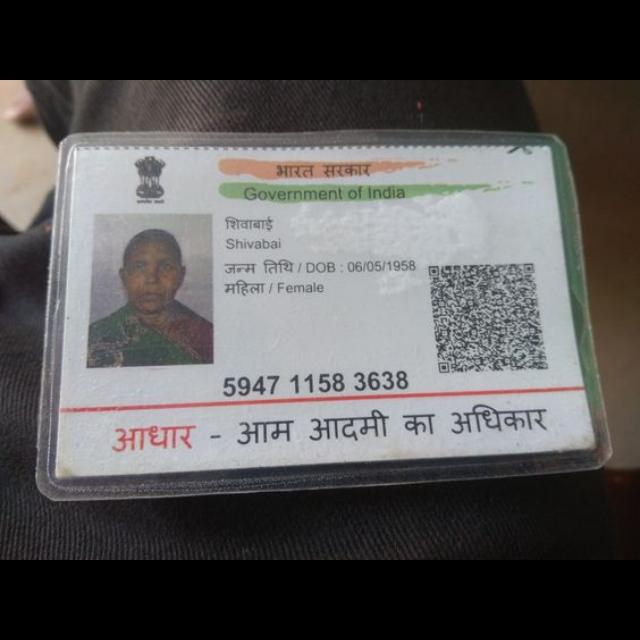aadhaar: (49, 140, 604, 484)
